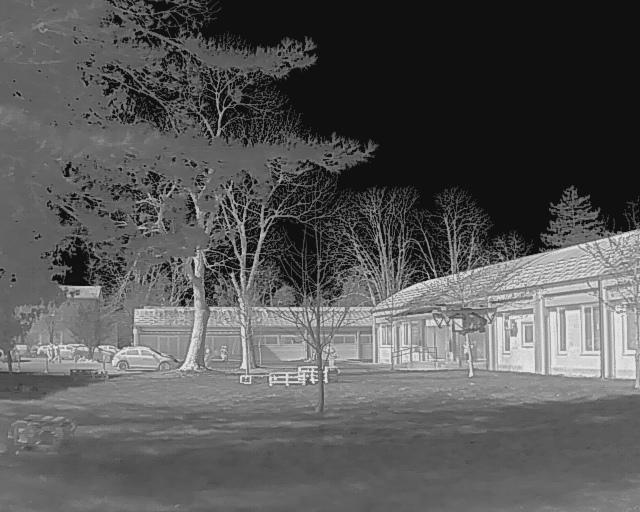drone: (404, 295, 507, 333)
